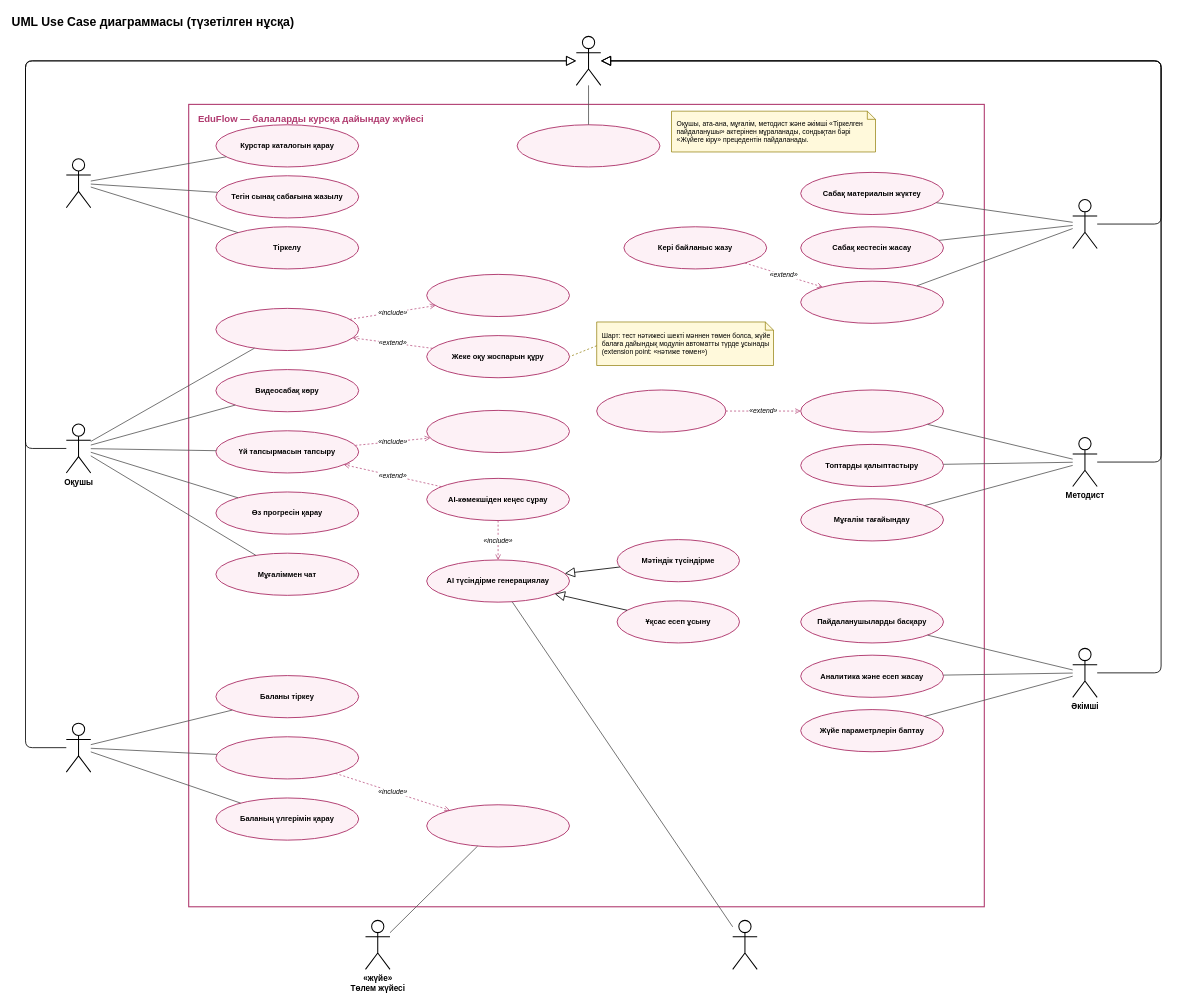
Image size: 1183x1005. Some labels were removed from this diagram. Each missing label, with the centre of its shape:
"«жүйе» AI сервисі" belongs at [744,945].
"Автоматты тексеру" belongs at [498,431].
"Ата-ана" belongs at [78,747].
"Деңгейді анықтау тесті" belongs at [287,329].
"Жаңа курс құру" belongs at [661,410].
"Жүйеге кіру (авторизация)" belongs at [588,145].
"Курс бағдарламасын басқару" belongs at [872,410].
"Курсқа ақы төлеу" belongs at [287,757].
"Мұғалім" belongs at [1084,224].
"Нәтижені автоматты бағалау" belongs at [498,295].
"Онлайн төлем (карта / QR)" belongs at [498,825].
"Тапсырманы тексеру және бағалау" belongs at [872,301].
"Тіркелген пайдаланушы (абстрактілі)" belongs at [588,61].
"Қонақ" belongs at [78,183].
